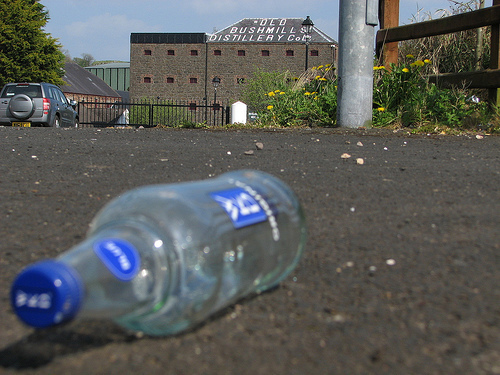litter: (7, 166, 305, 338)
